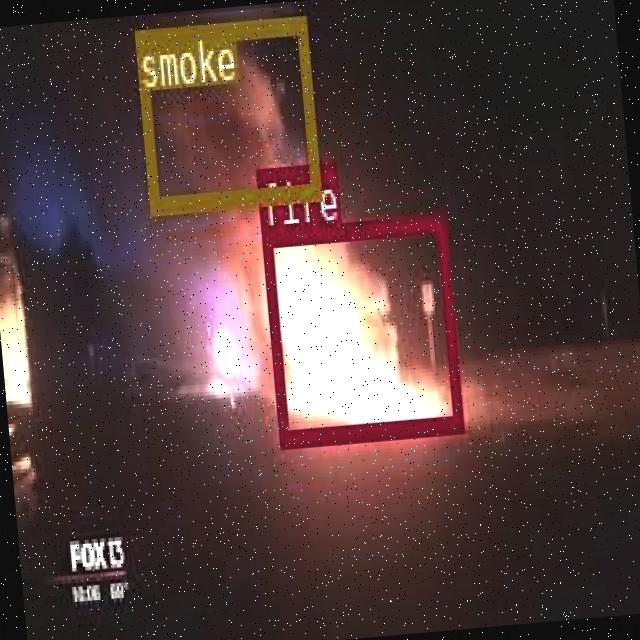fire: (258, 212, 462, 444)
smoke: (132, 14, 318, 212)
